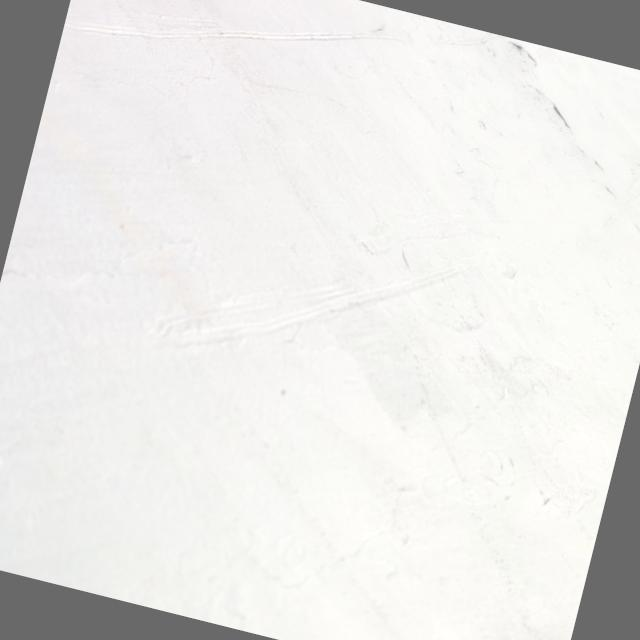scratch: (134, 164, 500, 436), (55, 0, 426, 142)
